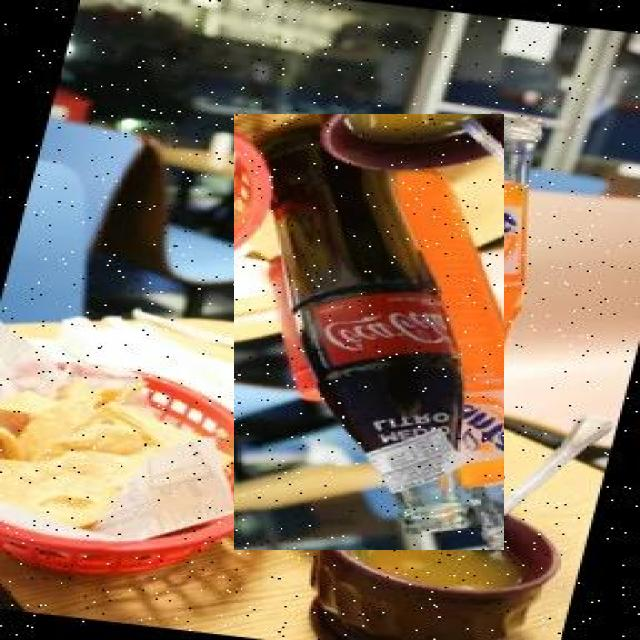coca-cola: (234, 114, 504, 550)
